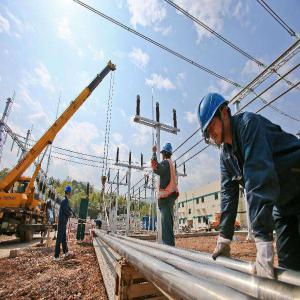blue: (198, 92, 232, 150), (161, 143, 174, 162), (65, 184, 73, 201)
